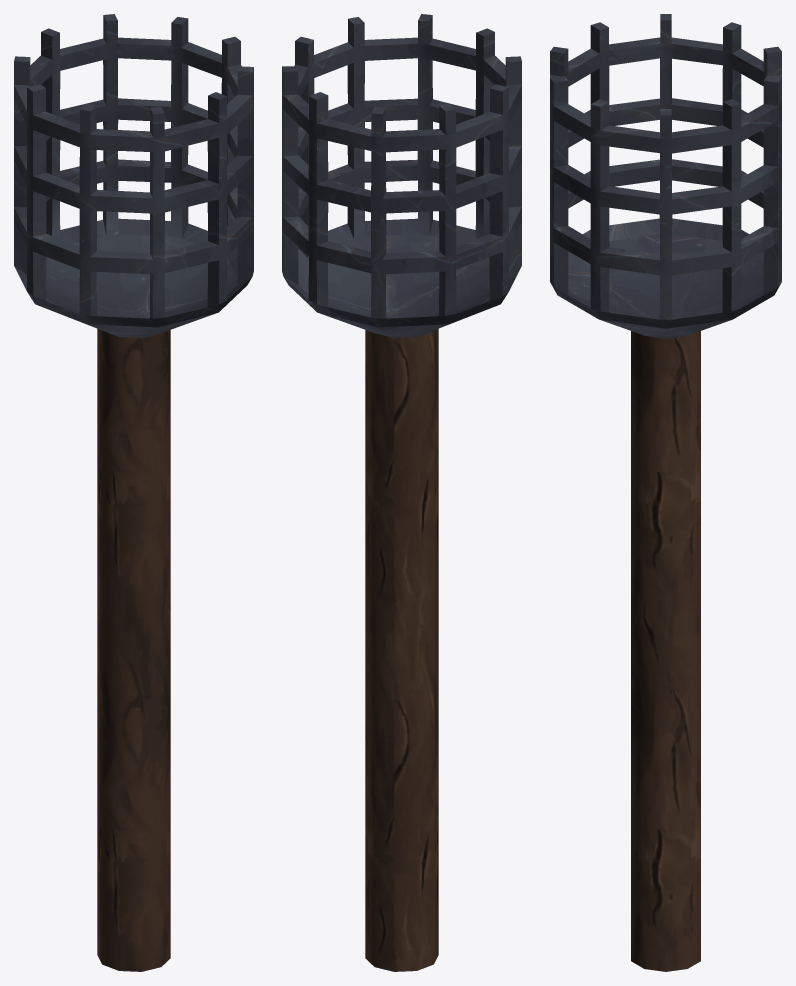
The model's file is Big torch.fbx.
3 views of the same model, side by side, from view 1: azimuth 30°, elevation 25°; view 2: azimuth 150°, elevation 25°; view 3: azimuth 270°, elevation 25° (orthographic).
Parts seen in each view (by area): view 1: Big_torch1; view 2: Big_torch1; view 3: Big_torch1.
Part boxes in pixels (box(x1,y1,x2,y2)): Big_torch1: box(14, 14, 253, 971); Big_torch1: box(282, 14, 521, 971); Big_torch1: box(550, 14, 781, 971).
Size of the model in its own units: 0.3588 by 1.47 by 0.3466.
